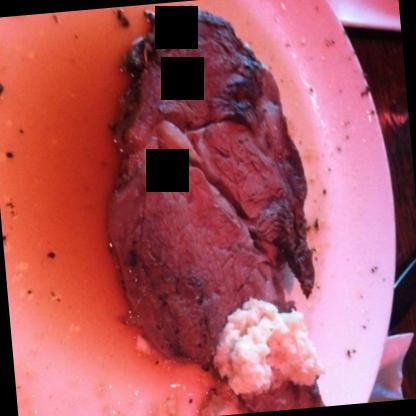beef: (88, 0, 328, 415)
